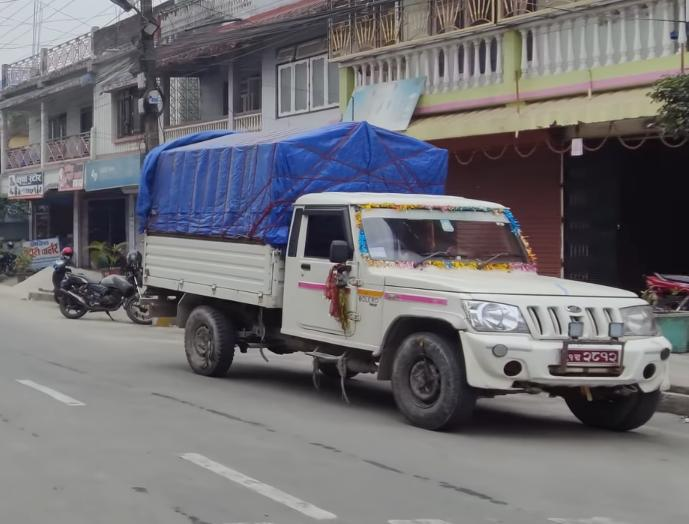bike: (46, 248, 151, 326)
transport_vehicle: (128, 115, 677, 438)
